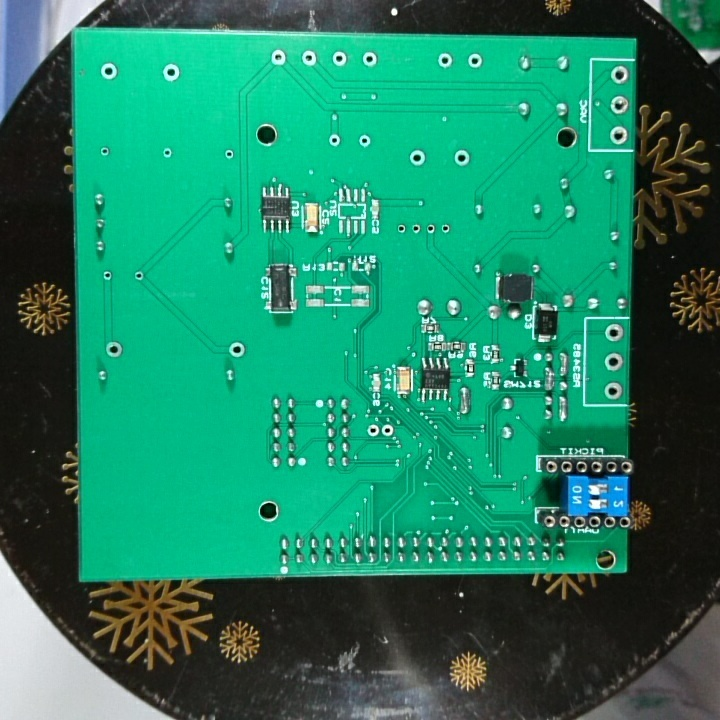F: (602, 321, 625, 346), (159, 61, 182, 85), (608, 92, 630, 117), (608, 63, 631, 86), (602, 349, 625, 372), (608, 123, 630, 147), (359, 48, 379, 72), (103, 339, 125, 360), (98, 60, 119, 82), (298, 47, 319, 69), (602, 380, 624, 401), (268, 46, 288, 69), (330, 48, 350, 71), (435, 49, 455, 72), (226, 339, 247, 360), (450, 147, 471, 168), (406, 149, 428, 169), (465, 49, 484, 72), (326, 130, 344, 149), (356, 132, 373, 151), (379, 420, 394, 440), (159, 144, 175, 162), (99, 268, 114, 286), (438, 218, 453, 236), (365, 423, 381, 439), (222, 146, 237, 163), (408, 219, 423, 236), (394, 220, 408, 238), (132, 267, 145, 286), (97, 143, 112, 159), (424, 220, 437, 235)
P: (457, 384, 473, 417), (555, 392, 571, 423), (542, 363, 557, 394), (557, 349, 571, 379)
